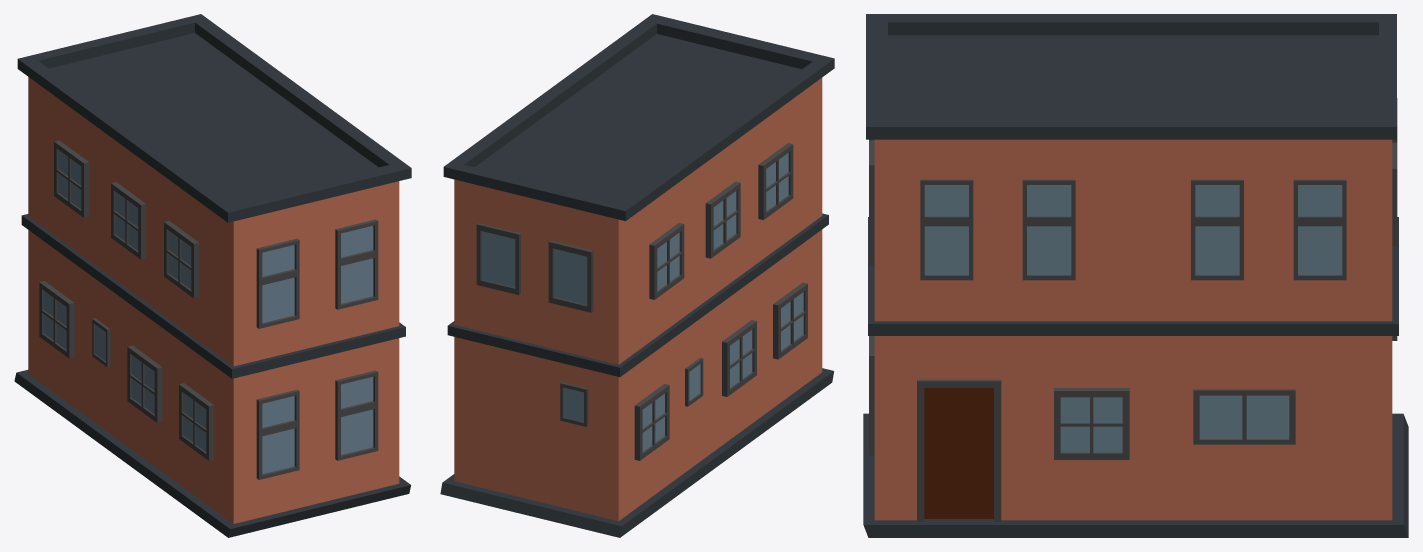
File: 2x1 orange.fbx
The picture shows the model from 3 angles, left to right: view 1: azimuth 30°, elevation 25°; view 2: azimuth 150°, elevation 25°; view 3: azimuth 270°, elevation 25°; orthographic projection. The views are drawn at different scales.
Parts seen in each view (by area): view 1: 2x1 white orange; view 2: 2x1 white orange; view 3: 2x1 white orange.
Part boxes in pixels (box(x1,y1,x2,y2)): 2x1 white orange: box(14, 14, 411, 537); 2x1 white orange: box(440, 14, 834, 537); 2x1 white orange: box(863, 14, 1408, 537).
Size of the model in its own units: 3.74 by 6.35 by 7.62.
